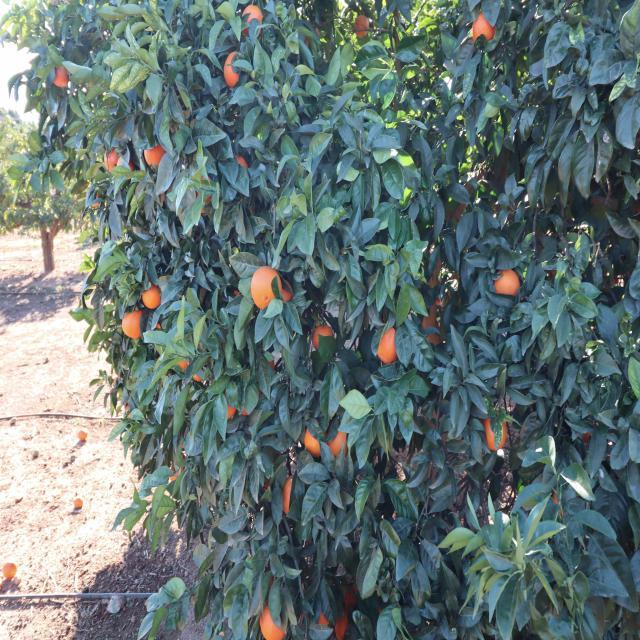Jeruk Sudah Matang: (328, 580, 368, 640), (280, 478, 317, 530), (256, 600, 296, 640), (250, 265, 284, 312), (223, 49, 253, 95), (488, 263, 524, 301), (484, 410, 514, 455), (226, 148, 254, 196), (190, 176, 220, 220), (240, 0, 272, 40), (297, 414, 325, 458), (120, 308, 150, 348), (376, 323, 402, 369), (260, 557, 286, 599), (137, 140, 171, 172), (312, 318, 339, 358), (468, 12, 496, 48), (328, 417, 350, 460), (215, 390, 238, 430), (260, 352, 280, 396), (142, 278, 166, 313), (50, 60, 74, 94), (318, 583, 332, 637), (349, 12, 374, 40), (258, 466, 278, 501), (170, 451, 188, 489), (277, 278, 299, 308), (584, 418, 604, 450), (176, 347, 193, 381), (102, 147, 120, 178), (152, 319, 168, 352), (193, 364, 210, 390), (118, 160, 136, 182)
